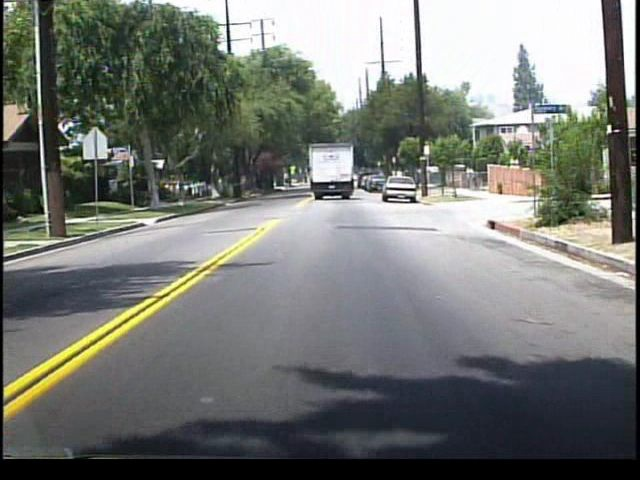person: (463, 165, 474, 190)
